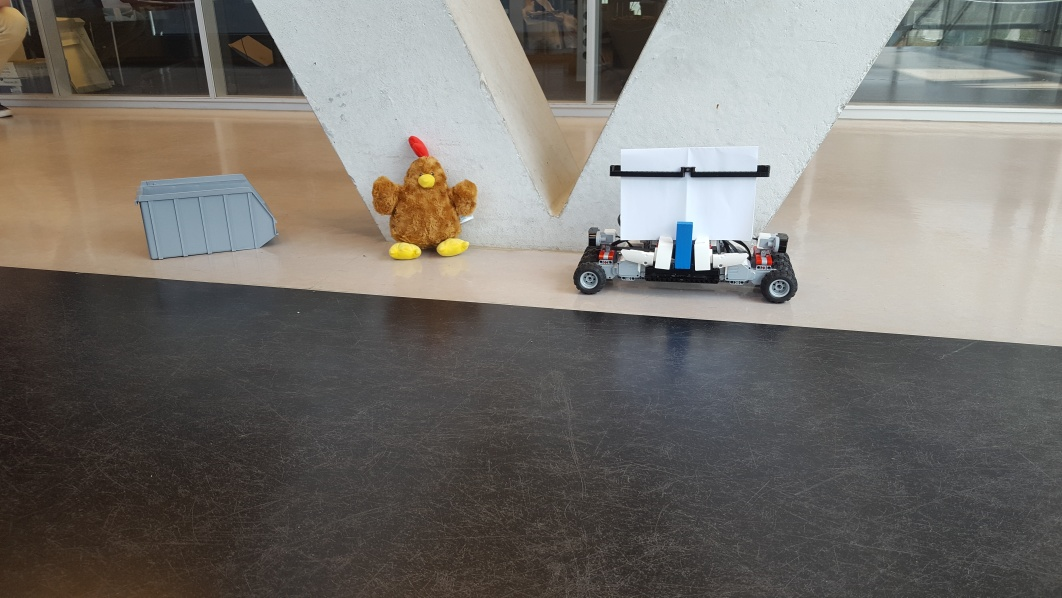car: (575, 143, 799, 306)
chicken: (373, 136, 481, 266)
tray: (133, 173, 280, 264)
